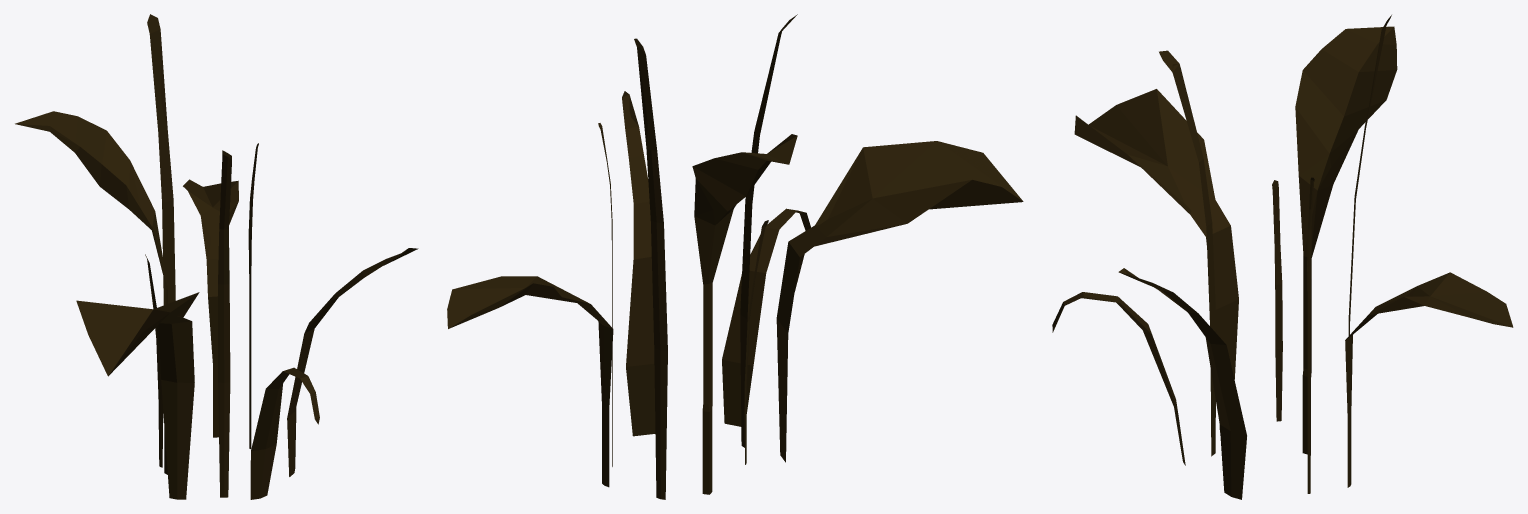
Rendered from Weed01.fbx.
3 views of the same model, side by side, from view 1: azimuth 30°, elevation 25°; view 2: azimuth 150°, elevation 25°; view 3: azimuth 270°, elevation 25° (orthographic). The views are drawn at different scales.
Parts seen in each view (by area): view 1: Plane; view 2: Plane; view 3: Plane.
Boxes of the visible parts, x1,y1,x2,y2 form: Plane: [15, 14, 418, 499]; Plane: [447, 14, 1023, 499]; Plane: [1052, 15, 1513, 499].
Bounding box in the file's own units: 0.9676 × 1.18 × 1.1.
